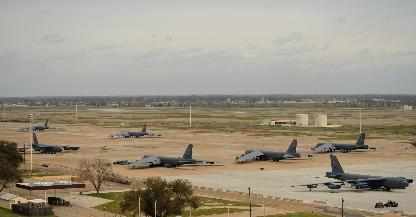B2: (290, 154, 412, 191), (126, 144, 224, 169), (235, 139, 322, 163), (311, 132, 385, 152), (16, 132, 80, 153), (106, 123, 168, 138), (16, 119, 66, 131)
